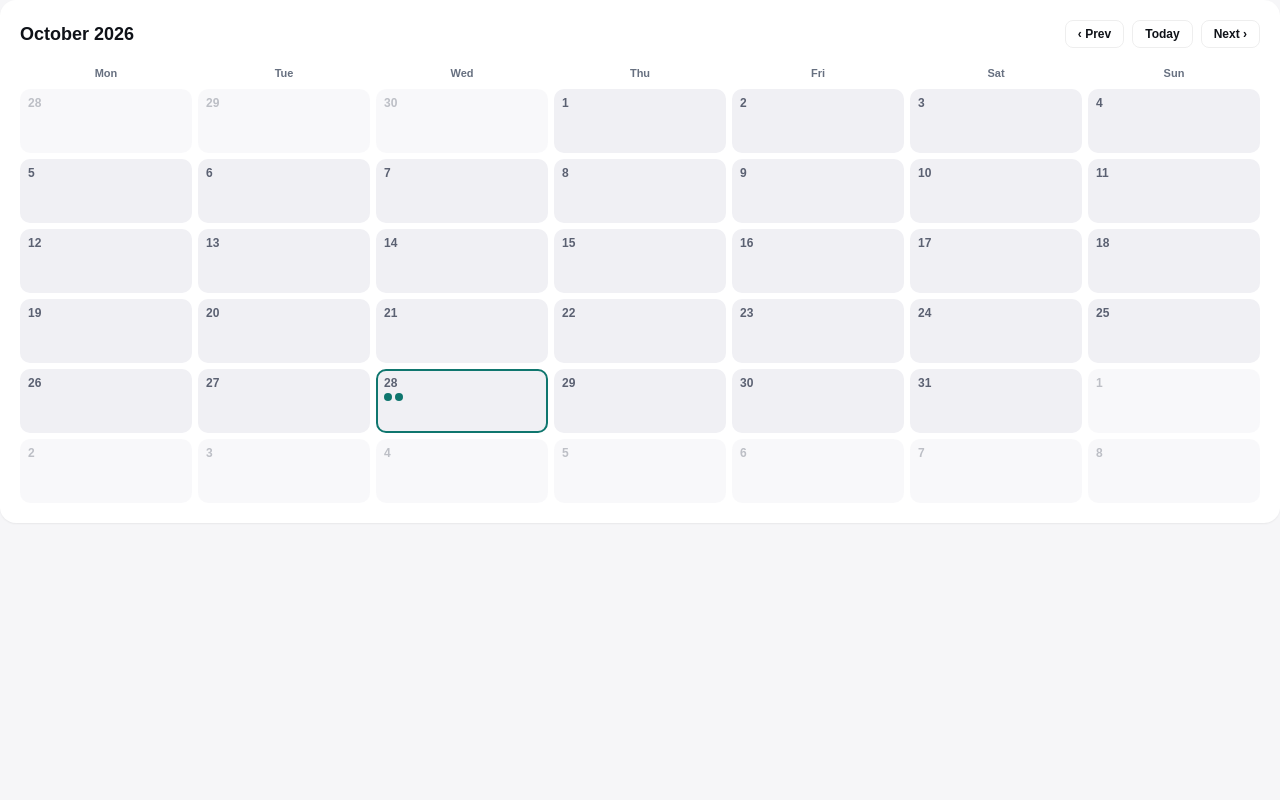
SubscriptionsCalendar › shows income in the up colour and marks transfers in the day popover
Step 1. Click the cell named "2 scheduled items" → (462, 401), box [376, 369, 548, 433]
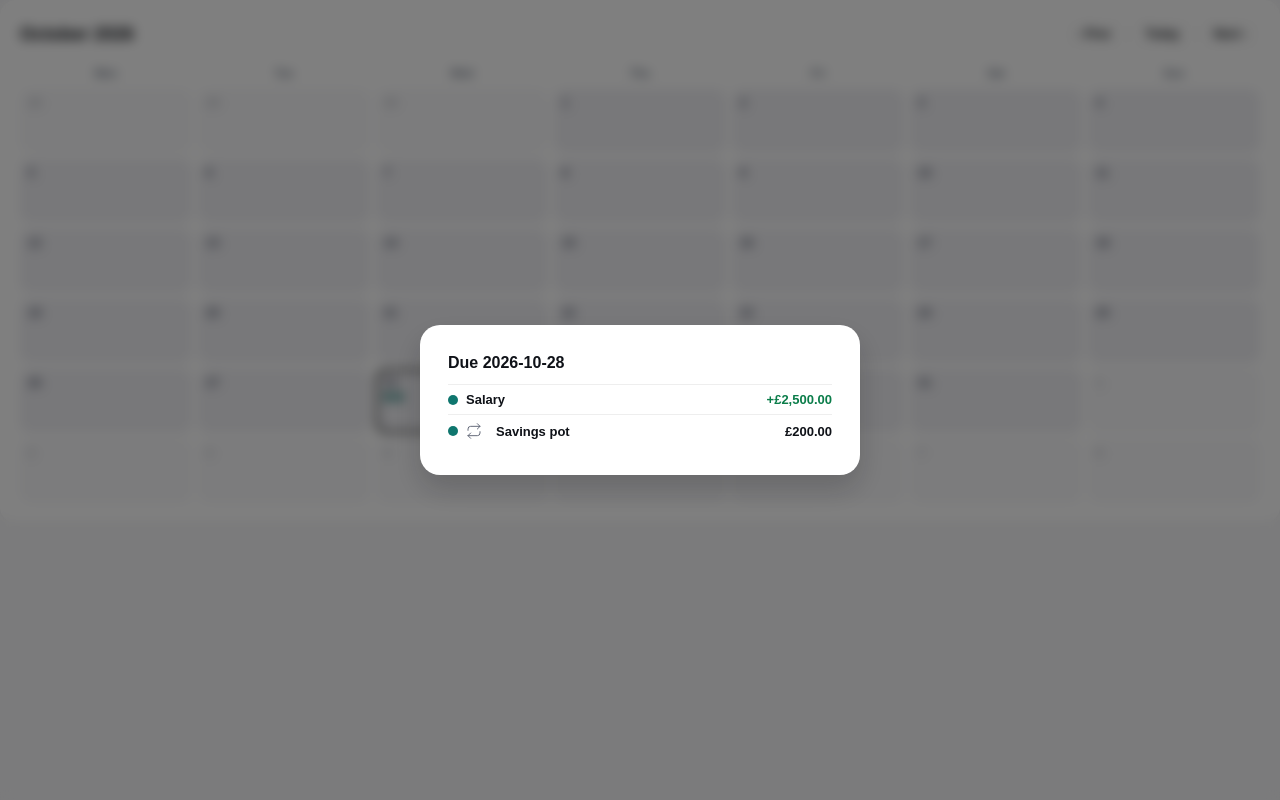
Now the text "£200.00" is shown, box [785, 425, 832, 438]
Now the picture named "Transfer" is shown, box [466, 423, 482, 439]
